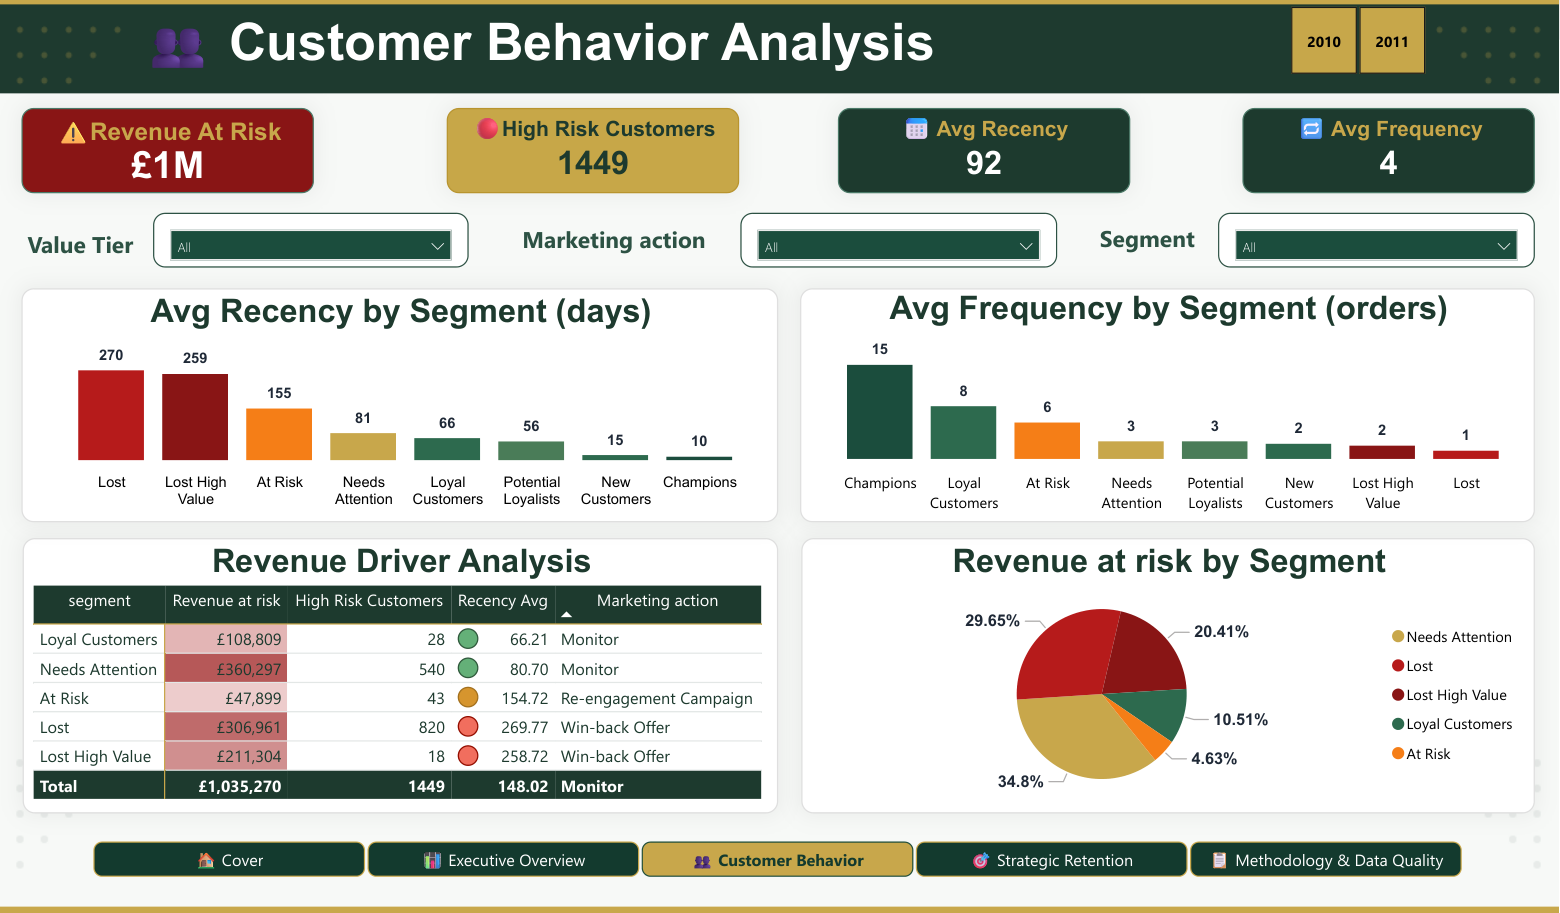

The dashboard page shown, as its layout file describes it:
{"tool":"powerbi","page":{"name":" 👥 Customer Behavior","canvas":[1280,750],"ordinal":2},"visuals":[{"type":"textbox","box":[108.5,0,669.1,81.9],"z":0},{"type":"card","title":"🔁 Avg Frequency","fields":{"Values":["Measure.Avg Purchase Frequency"]},"box":[1020.5,90.1,240,70],"z":1000},{"type":"card","title":"📅 Avg Recency","fields":{"Values":["Measure.Avg Recency"]},"box":[688.7,89.6,240,70],"z":2000},{"type":"card","title":"🔴High Risk Customers","fields":{"Values":["Measure.High Risk Customers"]},"box":[368.2,90.1,240,70],"z":3000},{"type":"card","title":"⚠️Revenue At Risk","fields":{"Values":["Measure.Revenue At Risk"]},"box":[19.5,90.2,240,70],"z":4000},{"type":"pivotTable","title":"Revenue Driver Analysis","fields":{"Rows":["rfm_analysis gold_customer_insights.segment"],"Values":["Measure.Revenue At Risk","Measure.High Risk Customers","Measure.Weighted Avg Recency","Min(rfm_analysis gold_customer_insights.marketing_action)"]},"box":[19.8,442.7,619.8,226],"z":5000},{"type":"columnChart","title":"Avg Recency by Segment (days)","fields":{"Category":["rfm_analysis gold_customer_insights.segment"],"Y":["Measure.Avg Recency"]},"box":[19.5,238.3,620.5,191.6],"z":6000},{"type":"pieChart","title":"Revenue at risk by Segment","fields":{"Category":["rfm_analysis gold_customer_insights.segment"],"Y":["Measure.Revenue At Risk"]},"box":[659.5,442.6,601.1,226.6],"z":7000},{"type":"slicer","title":"Marketing action","fields":{"Values":["rfm_analysis gold_customer_insights.marketing_action"]},"box":[609.1,175.8,259.6,45],"z":8000},{"type":"slicer","title":"Value Tier","fields":{"Values":["rfm_analysis gold_customer_insights.value_tier"]},"box":[126.7,176,259.6,45],"z":9000},{"type":"slicer","title":"Segment","fields":{"Values":["rfm_analysis gold_customer_insights.segment"]},"box":[1000.5,175.8,260,45],"z":10000},{"type":"slicer","title":"Year","fields":{"Values":["Calendar.Year"]},"box":[1035.1,0,159.6,69.1],"z":11000},{"type":"textbox","box":[19.5,184.4,106.4,43.4],"z":12000},{"type":"textbox","box":[424.9,179.6,183.9,46.3],"z":13000},{"type":"textbox","box":[899,178.8,101,48.5],"z":14000},{"type":"clusteredColumnChart","title":"Avg Frequency by Segment (orders)","fields":{"Category":["rfm_analysis gold_customer_insights.segment"],"Y":["Measure.Avg Frequency"]},"box":[658.5,238.3,602.1,191.6],"z":15000},{"type":"pageNavigator","box":[78,691.7,1124,29.2],"z":16000}]}

Visuals, with their boxes in screenshot pixels (x1, y1, x2, y2), scaled from the page's 1280x750 canvas onto the 1560x913 screenshot:
textbox: l=132, t=0, r=948, b=100
"🔁 Avg Frequency" card: l=1244, t=110, r=1536, b=195
"📅 Avg Recency" card: l=839, t=109, r=1132, b=194
"🔴High Risk Customers" card: l=449, t=110, r=741, b=195
"⚠️Revenue At Risk" card: l=24, t=110, r=316, b=195
"Revenue Driver Analysis" pivotTable: l=24, t=539, r=780, b=814
"Avg Recency by Segment (days)" columnChart: l=24, t=290, r=780, b=523
"Revenue at risk by Segment" pieChart: l=804, t=539, r=1536, b=815
"Marketing action" slicer: l=742, t=214, r=1059, b=269
"Value Tier" slicer: l=154, t=214, r=471, b=269
"Segment" slicer: l=1219, t=214, r=1536, b=269
"Year" slicer: l=1262, t=0, r=1456, b=84
textbox: l=24, t=224, r=153, b=277
textbox: l=518, t=219, r=742, b=275
textbox: l=1096, t=218, r=1219, b=277
"Avg Frequency by Segment (orders)" clusteredColumnChart: l=803, t=290, r=1536, b=523
pageNavigator: l=95, t=842, r=1465, b=878
